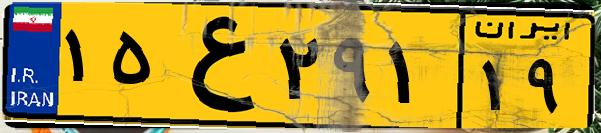1: (385, 28, 445, 110), (57, 26, 110, 100), (475, 38, 525, 113)
2: (270, 28, 330, 110)
5: (110, 28, 158, 98)
9: (330, 28, 385, 110), (525, 38, 570, 115)
ع: (158, 12, 270, 120)
